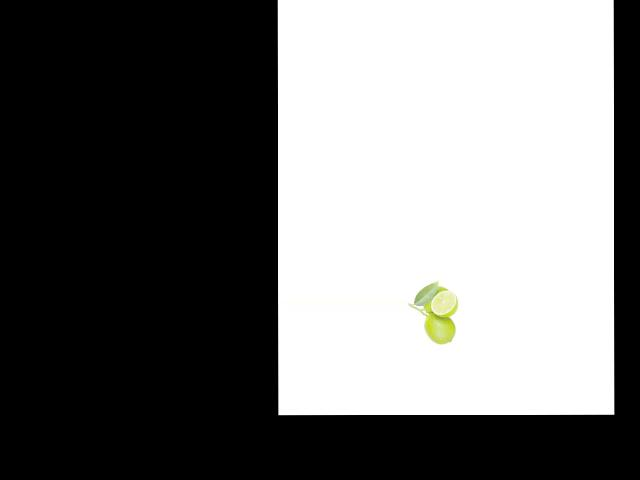lemon: (419, 284, 449, 312)
